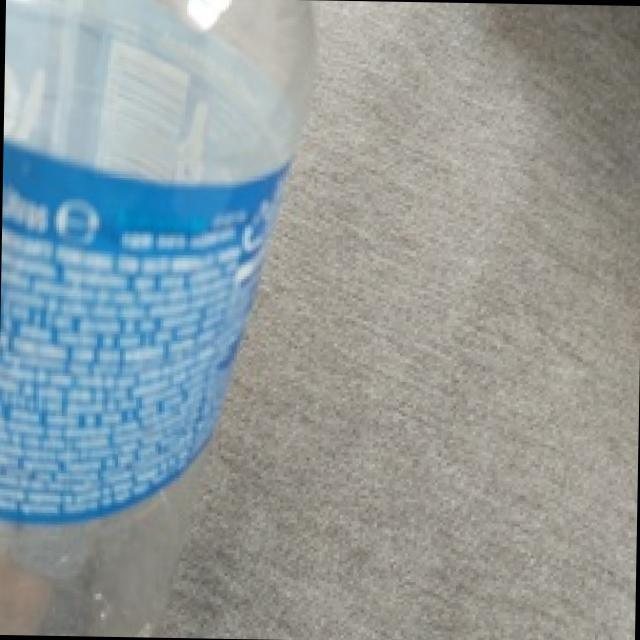good: (0, 0, 326, 639)
